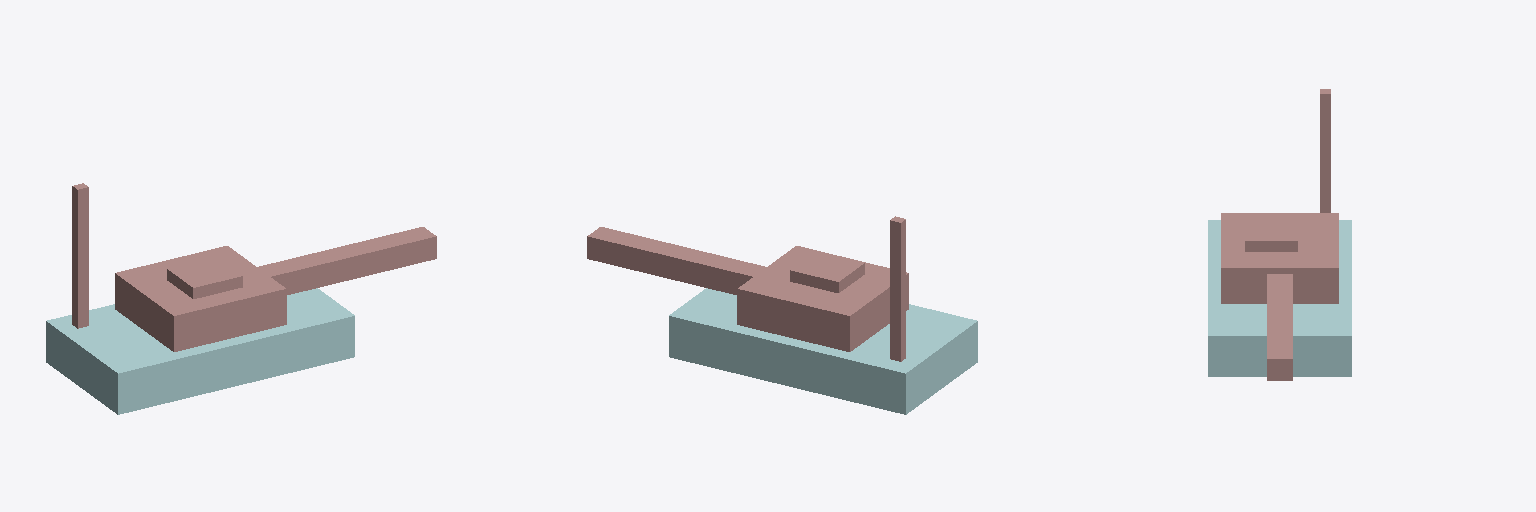
Rendered from n_tank.obj.
3 views of the same model, side by side, from view 1: azimuth 30°, elevation 25°; view 2: azimuth 150°, elevation 25°; view 3: azimuth 270°, elevation 25° (orthographic).
Parts seen in each view (by area): view 1: Box001, Box002, Box003, Box005, Box004; view 2: Box001, Box002, Box003, Box005, Box004; view 3: Box001, Box002, Box003, Box004, Box005.
Boxes of the visible parts, x1=… form: Box001: x1=46, y1=288, x2=354, y2=414; Box002: x1=115, y1=246, x2=286, y2=351; Box003: x1=258, y1=227, x2=436, y2=294; Box005: x1=72, y1=183, x2=88, y2=328; Box004: x1=167, y1=257, x2=242, y2=298; Box001: x1=669, y1=288, x2=977, y2=414; Box002: x1=737, y1=246, x2=908, y2=351; Box003: x1=587, y1=227, x2=765, y2=294; Box005: x1=890, y1=216, x2=905, y2=361; Box004: x1=790, y1=251, x2=864, y2=292; Box001: x1=1208, y1=220, x2=1351, y2=376; Box002: x1=1221, y1=213, x2=1338, y2=303; Box003: x1=1267, y1=274, x2=1292, y2=380; Box004: x1=1245, y1=217, x2=1297, y2=251; Box005: x1=1320, y1=89, x2=1330, y2=212.
Size of the model in its own units: 10.76 by 5.33 by 3.87.